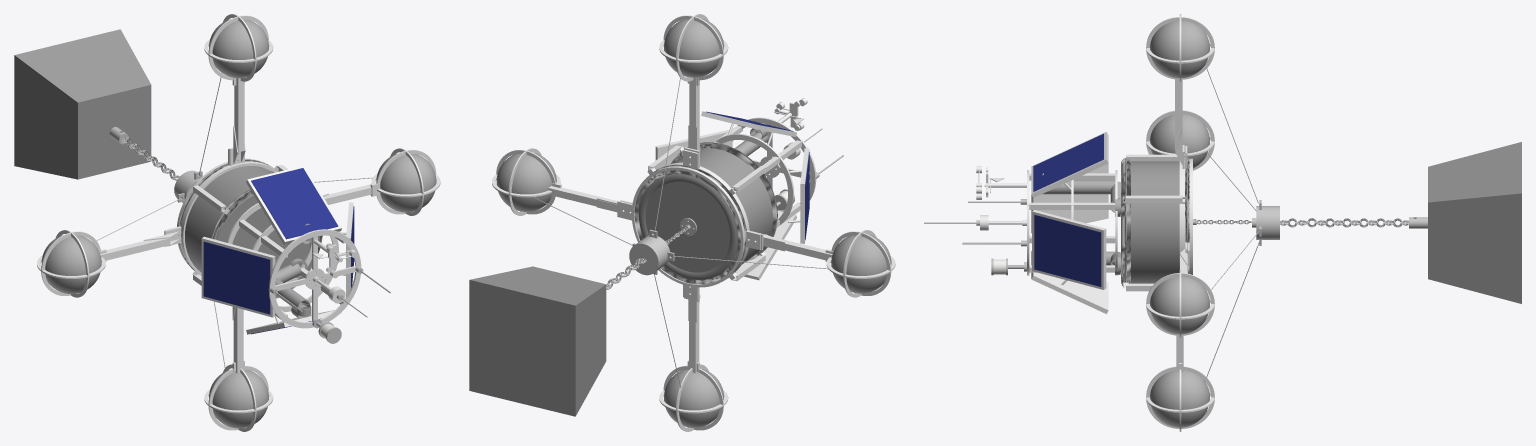
File: PROJECT FALCON -01 tilt.fbx
The picture shows the model from 3 angles, left to right: view 1: azimuth 30°, elevation 25°; view 2: azimuth 150°, elevation 25°; view 3: azimuth 270°, elevation 25°; orthographic projection.
Visible parts, largest first — view 1: ANCHOR_REINFORCED_CONCRETE_BODY, UPPER_FRAME_6061_BODY, SOLAR_PANEL_04_MONOCRYSTALLINE_FACE, SOLAR_PANEL_01_MONOCRYSTALLINE_FACE, MAIN_FLOAT_HDPE_BODY, STABILIZER_BUOY_01_HDPE_BODY, STABILIZER_BUOY_04_HDPE_BODY, STABILIZER_BUOY_02_HDPE_BODY, STABILIZER_BUOY_03_HDPE_BODY, TOP_CAP_HDPE_BODY, FRAME_6061_COLLAR_BODY, STABILIZER_ARM_UNIT_03_6061_BODY (+13 smaller); view 2: ANCHOR_REINFORCED_CONCRETE_BODY, MAIN_FLOAT_HDPE_BODY, UPPER_FRAME_6061_BODY, FRAME_6061_COLLAR_BODY, STABILIZER_BUOY_03_HDPE_BODY, STABILIZER_BUOY_02_HDPE_BODY, STABILIZER_BUOY_01_HDPE_BODY, STABILIZER_BUOY_04_HDPE_BODY, MAIN_FLOAT_HDPE_BODY (1), MAIN_FLOAT_LOWER_ROUNDED_FAIRING_HDPE_BODY, BALLAST_316SS_CORE, STABILIZER_ARM_6061_BODY (+12 smaller); view 3: ANCHOR_REINFORCED_CONCRETE_BODY, MAIN_FLOAT_HDPE_BODY, SOLAR_PANEL_02_MONOCRYSTALLINE_FACE, STABILIZER_BUOY_01_HDPE_BODY, STABILIZER_BUOY_02_HDPE_BODY, STABILIZER_BUOY_04_HDPE_BODY, SOLAR_PANEL_01_MONOCRYSTALLINE_FACE, STABILIZER_BUOY_03_HDPE_BODY, UPPER_FRAME_6061_BODY, SOLAR_PANEL_04_ALUMINUM_FRAME, SOLAR_PANEL_03_ALUMINUM_FRAME, MAIN_FLOAT_UPPER_ROUNDED_FAIRING_HDPE_BODY (+10 smaller).
Boxes of the visible parts, box(x1,y1,x2,y2) form: ANCHOR_REINFORCED_CONCRETE_BODY: box(14, 29, 151, 179); UPPER_FRAME_6061_BODY: box(226, 203, 361, 328); SOLAR_PANEL_04_MONOCRYSTALLINE_FACE: box(203, 241, 270, 314); SOLAR_PANEL_01_MONOCRYSTALLINE_FACE: box(251, 168, 338, 239); MAIN_FLOAT_HDPE_BODY: box(185, 166, 272, 272); STABILIZER_BUOY_01_HDPE_BODY: box(376, 153, 436, 212); STABILIZER_BUOY_04_HDPE_BODY: box(209, 370, 268, 428); STABILIZER_BUOY_02_HDPE_BODY: box(209, 19, 268, 78); STABILIZER_BUOY_03_HDPE_BODY: box(41, 235, 101, 294); TOP_CAP_HDPE_BODY: box(216, 194, 319, 297); FRAME_6061_COLLAR_BODY: box(165, 148, 277, 275); STABILIZER_ARM_UNIT_03_6061_BODY: box(229, 78, 245, 165); ANCHOR_REINFORCED_CONCRETE_BODY: box(469, 266, 606, 416); MAIN_FLOAT_HDPE_BODY: box(645, 148, 772, 274); UPPER_FRAME_6061_BODY: box(714, 117, 816, 227); FRAME_6061_COLLAR_BODY: box(620, 149, 761, 300); STABILIZER_BUOY_03_HDPE_BODY: box(831, 234, 891, 293); STABILIZER_BUOY_02_HDPE_BODY: box(664, 18, 723, 77); STABILIZER_BUOY_01_HDPE_BODY: box(496, 152, 556, 211); STABILIZER_BUOY_04_HDPE_BODY: box(664, 368, 723, 427); MAIN_FLOAT_HDPE_BODY (1): box(639, 174, 736, 279); MAIN_FLOAT_LOWER_ROUNDED_FAIRING_HDPE_BODY: box(634, 164, 746, 284); BALLAST_316SS_CORE: box(629, 229, 674, 275); STABILIZER_ARM_6061_BODY: box(548, 186, 632, 220); ANCHOR_REINFORCED_CONCRETE_BODY: box(1428, 142, 1521, 303); MAIN_FLOAT_HDPE_BODY: box(1130, 161, 1179, 283); SOLAR_PANEL_02_MONOCRYSTALLINE_FACE: box(1034, 214, 1101, 286); STABILIZER_BUOY_01_HDPE_BODY: box(1150, 277, 1209, 334); STABILIZER_BUOY_02_HDPE_BODY: box(1150, 21, 1209, 78); STABILIZER_BUOY_04_HDPE_BODY: box(1150, 370, 1209, 427); SOLAR_PANEL_01_MONOCRYSTALLINE_FACE: box(1033, 133, 1103, 191); STABILIZER_BUOY_03_HDPE_BODY: box(1150, 114, 1209, 168); UPPER_FRAME_6061_BODY: box(1027, 170, 1117, 275); SOLAR_PANEL_04_ALUMINUM_FRAME: box(1031, 163, 1108, 233); SOLAR_PANEL_03_ALUMINUM_FRAME: box(1031, 251, 1108, 313); MAIN_FLOAT_UPPER_ROUNDED_FAIRING_HDPE_BODY: box(1121, 158, 1130, 286).
Bounding box in the file's own units: 2416 × 2416 × 3180.
